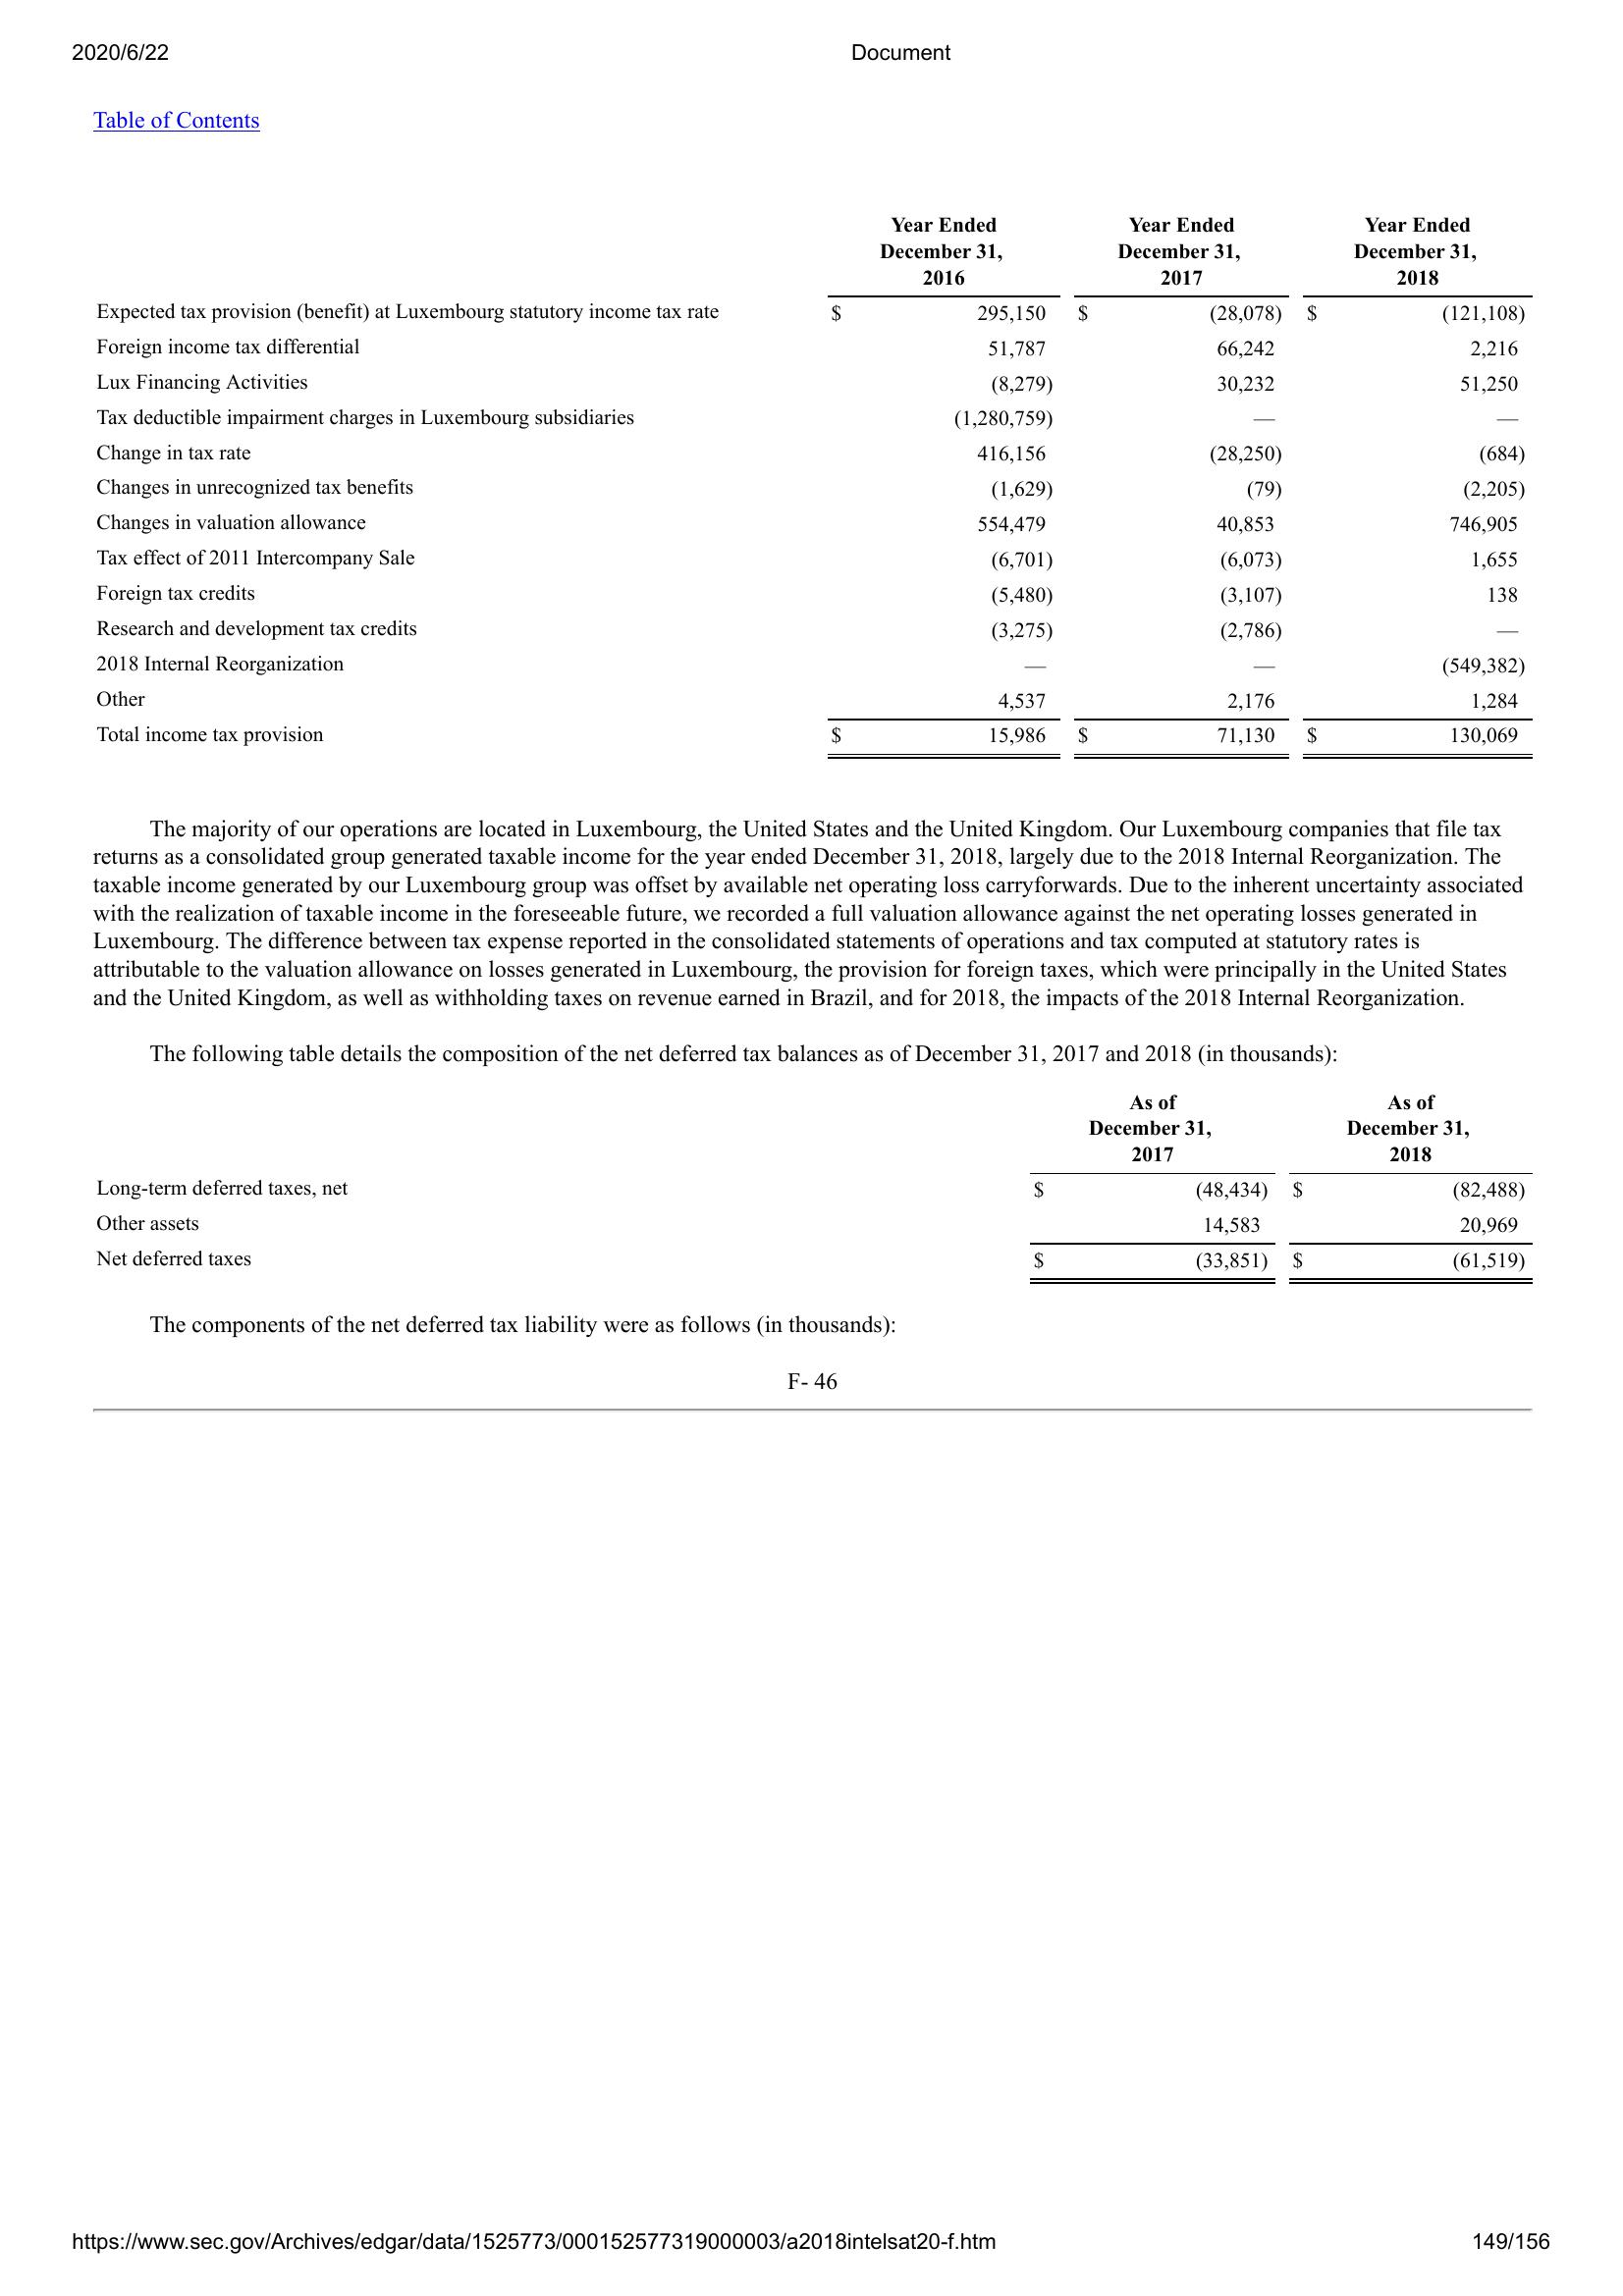table: (84, 214, 1535, 769), (90, 1085, 1539, 1290)
